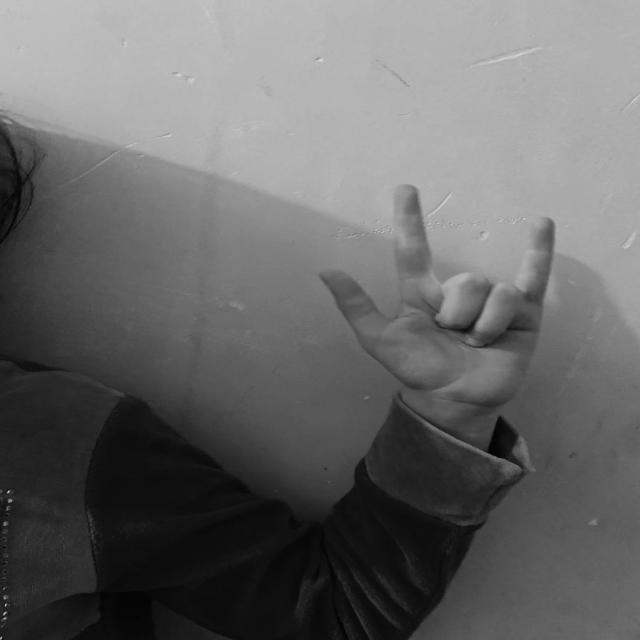i love you: (311, 177, 574, 428)
